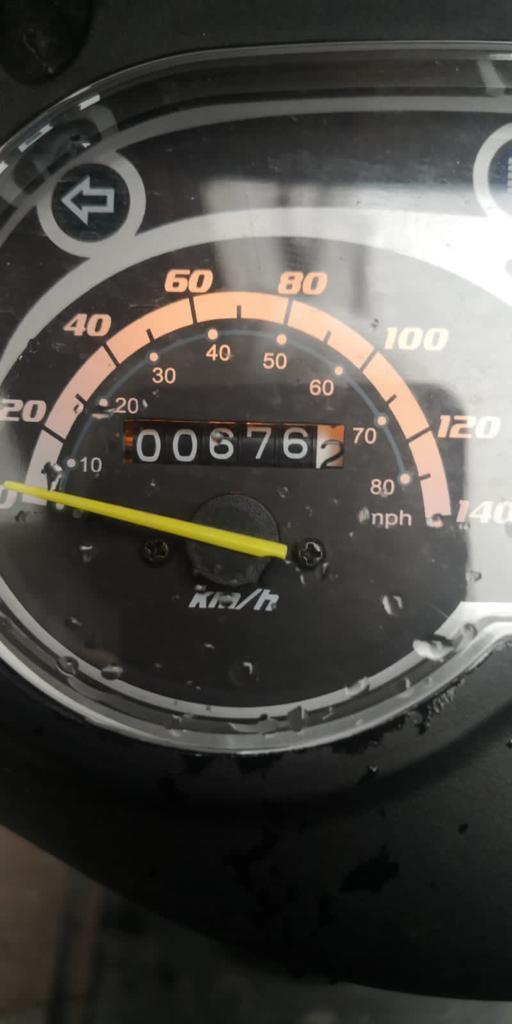0: (131, 428, 165, 465), (170, 429, 201, 465)
2: (319, 432, 346, 474)
6: (282, 425, 310, 468), (207, 427, 236, 465)
7: (244, 426, 273, 463)
odometer: (118, 420, 355, 482)
